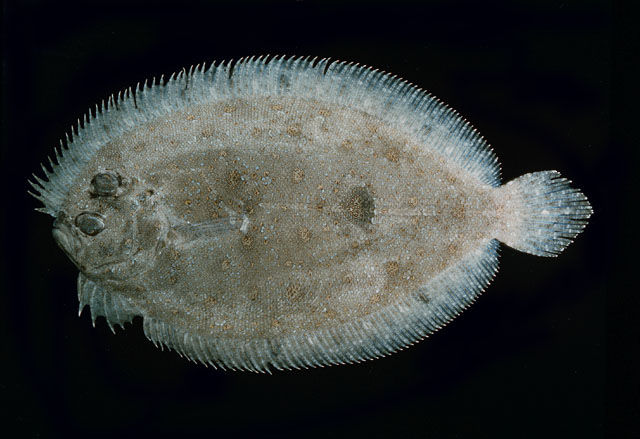fish: (29, 54, 594, 372)
